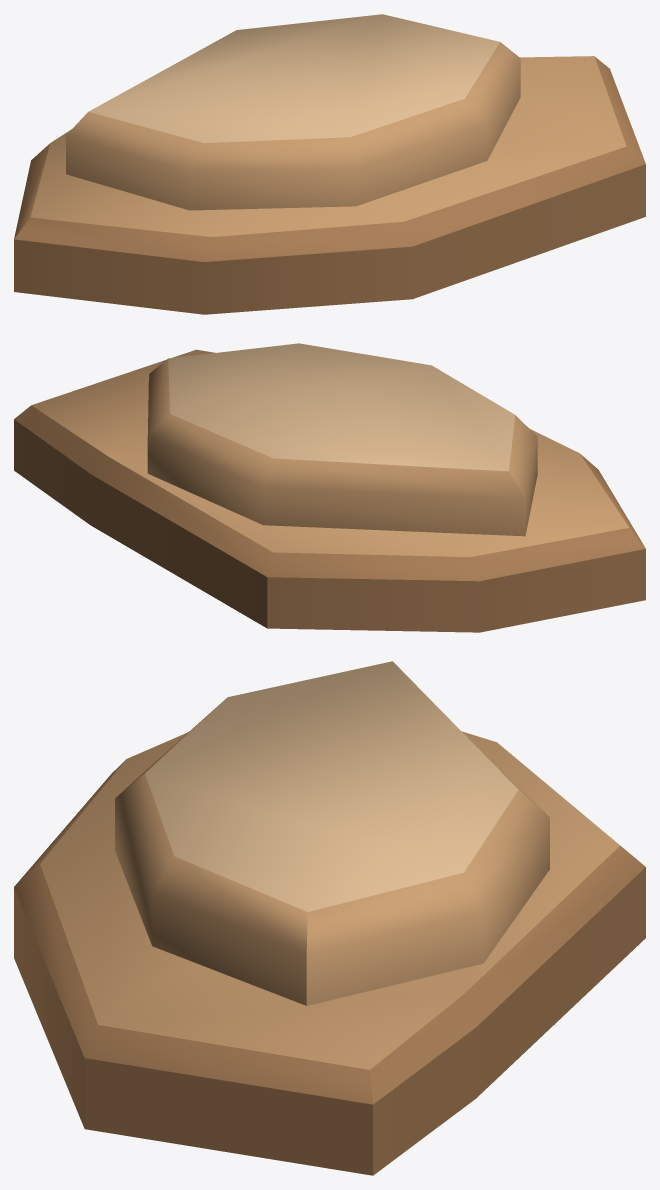
Rendered from terrarium_rock_flat.glb.
3 views of the same model, one above another, from view 1: azimuth 30°, elevation 25°; view 2: azimuth 150°, elevation 25°; view 3: azimuth 270°, elevation 25° (orthographic). The views are drawn at different scales.
Visible parts, largest first — view 1: terrarium_rock_flat; view 2: terrarium_rock_flat; view 3: terrarium_rock_flat.
Boxes of the visible parts, bbox=[...] form: terrarium_rock_flat: bbox=[14, 14, 645, 314]; terrarium_rock_flat: bbox=[14, 343, 645, 632]; terrarium_rock_flat: bbox=[14, 661, 645, 1175].
Size of the model in its own units: 1.85 by 0.37 by 1.21.
Materials: 1 (1 with a texture image).
